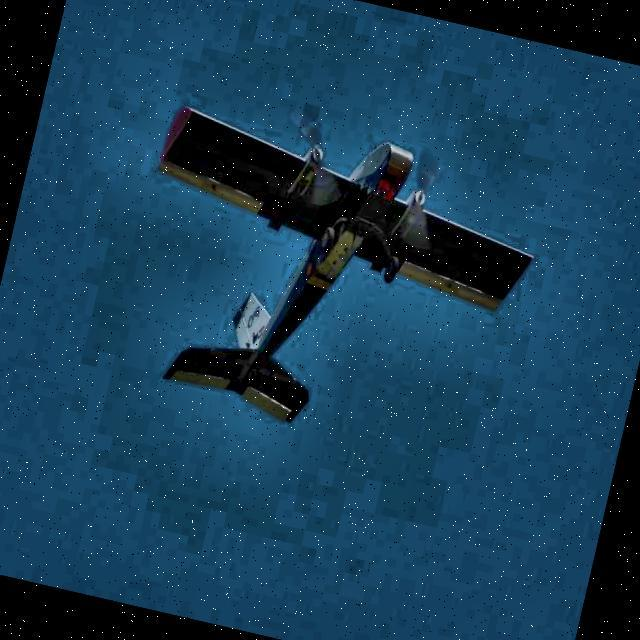iha: (94, 84, 546, 472)
